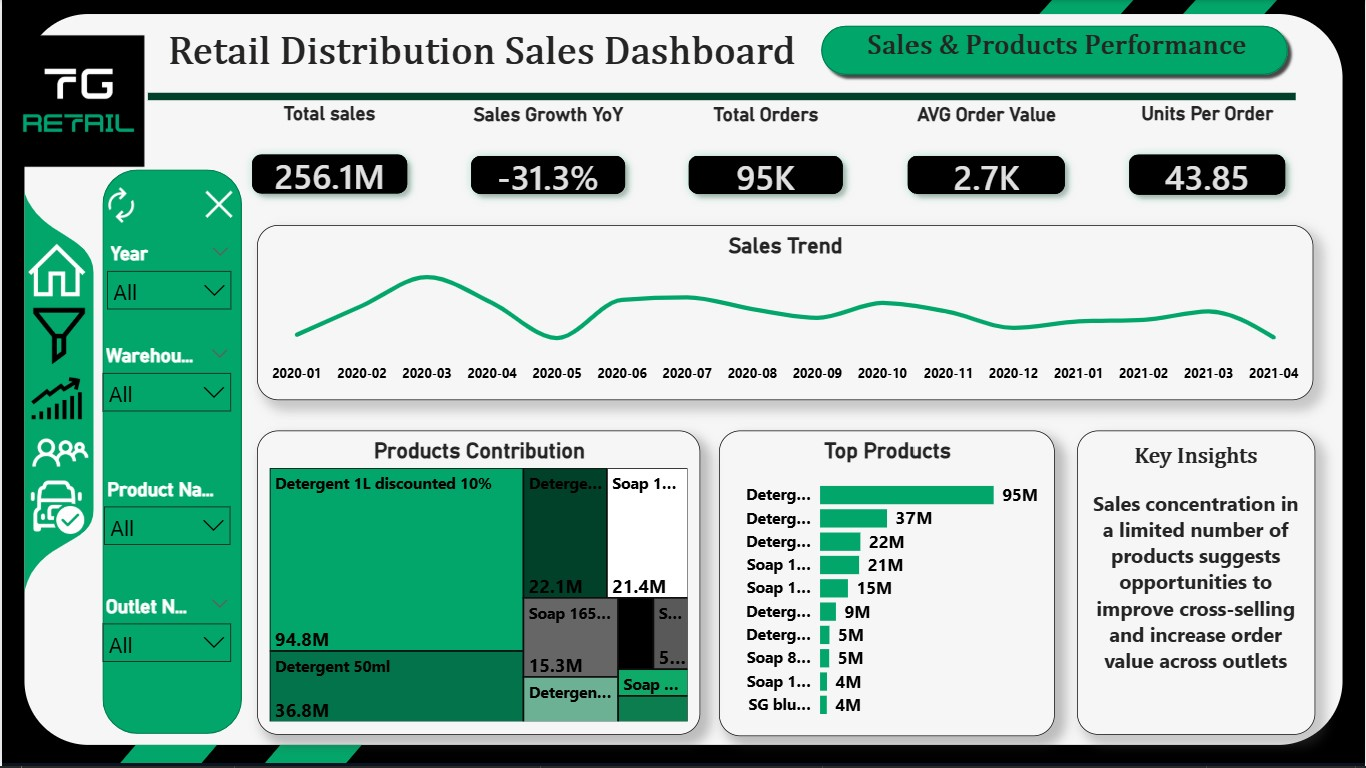

This screenshot's page, from the dashboard's own definition file:
{"tool":"powerbi","page":{"name":"Sales & Products Performance","canvas":[1280,720],"ordinal":1},"visuals":[{"type":"cardVisual","title":"AVG Order Value","fields":{"Data":["key_Measures.Avg Order Value"]},"box":[821.9,97.1,205.4,114.8],"z":0},{"type":"image","title":"logo","box":[0,0,143.8,190.1],"z":1000},{"type":"textbox","box":[150.2,22.4,611.9,55.9],"z":2000},{"type":"shape","box":[762.1,17.6,452.1,60.7],"z":3000},{"type":"textbox","box":[802,22.4,377.1,73.5],"z":4000},{"type":"treemap","title":"Products Contribution","fields":{"Group":["sales.Product Name"],"Values":["key_Measures.Total Sales"]},"box":[239.7,404.2,417,286],"z":5000},{"type":"cardVisual","title":"Units Per Order","fields":{"Data":["key_Measures.Units per Transaction"]},"box":[1028.8,95.4,205.4,116.5],"z":6000},{"type":"cardVisual","title":"Total Orders","fields":{"Data":["key_Measures.Count of Orders"]},"box":[616.8,97.1,203.8,114.8],"z":7000},{"type":"cardVisual","title":"Sales Growth YoY","fields":{"Data":["key_Measures.YOY Growth %"]},"box":[411.6,97.1,203.8,114.8],"z":8000},{"type":"cardVisual","title":"Total sales","fields":{"Data":["key_Measures.Total Sales"]},"box":[206.1,96.3,204.1,115.5],"z":9000},{"type":"lineChart","title":"Sales Trend","fields":{"Category":["Calendar.Year-Month"],"Y":["key_Measures.Total Sales"]},"box":[239.7,210.9,992.2,164.6],"z":10000},{"type":"clusteredBarChart","title":"Top Products","fields":{"Category":["sales.Product Name"],"Y":["key_Measures.Total Sales"]},"box":[674.2,404.2,314.7,287.6],"z":11000},{"type":"image","title":"home","box":[16,223.7,71.9,62.3],"z":13000},{"type":"image","title":"customers","box":[20.8,399.4,67.1,52.7],"z":14000},{"type":"image","title":"supply","box":[6.4,447.3,87.9,57.5],"z":15000},{"type":"shape","title":"filter panel","box":[94.2,159.8,131,530.4],"z":17000,"group":"g1"},{"type":"group","id":"g1","title":"filters panel","box":[84.7,159.8,140.6,530.4],"z":17000},{"type":"image","title":"Filter Active","box":[18.1,280.4,70.9,70.9],"z":19000},{"type":"image","title":"close","box":[183.7,172.6,41.5,39.9],"z":19006,"group":"g1"},{"type":"image","title":"reset filters","box":[86.6,173.4,52,38.5],"z":19506,"group":"g1"},{"type":"image","title":"Sales Active","box":[21.4,346.4,61,57.7],"z":20000},{"type":"slicer","title":"year slicer","fields":{"Values":["Calendar.Year"]},"box":[88.6,223.4,136.7,80.9],"z":20006,"group":"g1"},{"type":"slicer","title":"warehouse name slicer","fields":{"Values":["warehouse.Warehouse Name"]},"box":[84.7,319.7,140.6,109.8],"z":20506,"group":"g1"},{"type":"slicer","title":"product name slicer","fields":{"Values":["sales.Product Name"]},"box":[86.6,444.9,138.7,109.8],"z":21006,"group":"g1"},{"type":"slicer","title":"outlet name slicer","fields":{"Values":["outlets.Outlet Name"]},"box":[84.7,554.7,140.6,115.5],"z":21506,"group":"g1"},{"type":"textbox","box":[1009.7,404.2,223.7,286],"z":23000}]}

Visuals, with their boxes in screenshot pixels (x1, y1, x2, y2), scaled from the page's 1280x720 canvas onto the 1366x768 screenshot:
"AVG Order Value" cardVisual: 877 104 1096 226
"logo" image: 0 0 153 203
textbox: 160 24 813 84
shape: 813 19 1296 84
textbox: 856 24 1258 102
"Products Contribution" treemap: 256 431 701 736
"Units Per Order" cardVisual: 1098 102 1317 226
"Total Orders" cardVisual: 658 104 876 226
"Sales Growth YoY" cardVisual: 439 104 657 226
"Total sales" cardVisual: 220 103 438 226
"Sales Trend" lineChart: 256 225 1315 401
"Top Products" clusteredBarChart: 719 431 1055 738
"home" image: 17 239 94 305
"customers" image: 22 426 94 482
"supply" image: 7 477 101 538
"filter panel" shape: 101 170 240 736
"filters panel" group: 90 170 240 736
"Filter Active" image: 19 299 95 375
"close" image: 196 184 240 227
"reset filters" image: 92 185 148 226
"Sales Active" image: 23 369 88 431
"year slicer" slicer: 95 238 240 325
"warehouse name slicer" slicer: 90 341 240 458
"product name slicer" slicer: 92 475 240 592
"outlet name slicer" slicer: 90 592 240 715
textbox: 1078 431 1316 736
